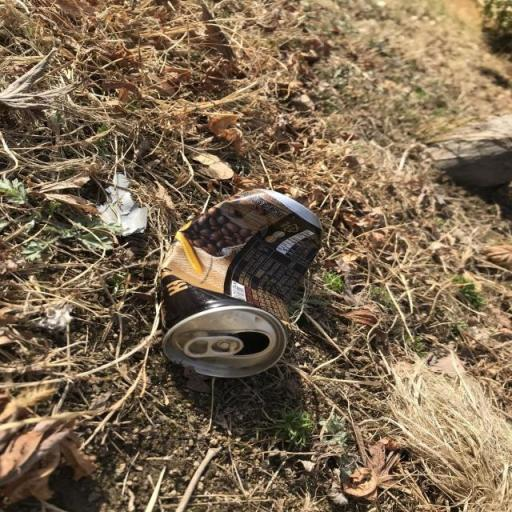metal: (135, 174, 364, 402)
